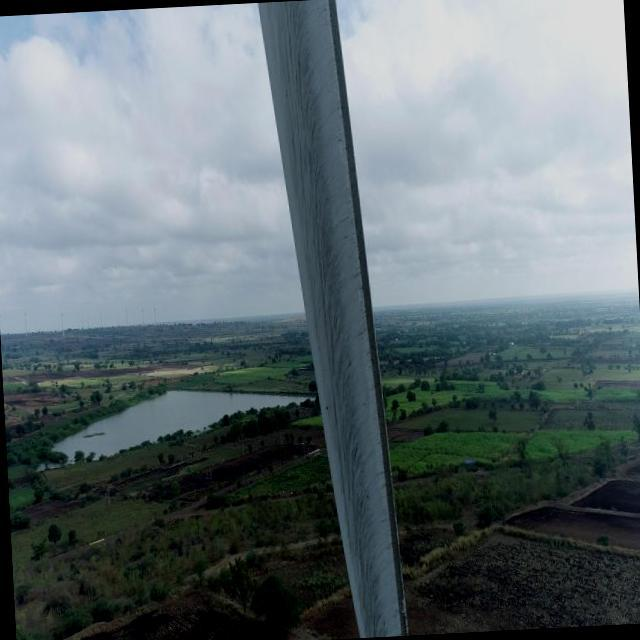Dirt: (256, 0, 411, 640)
